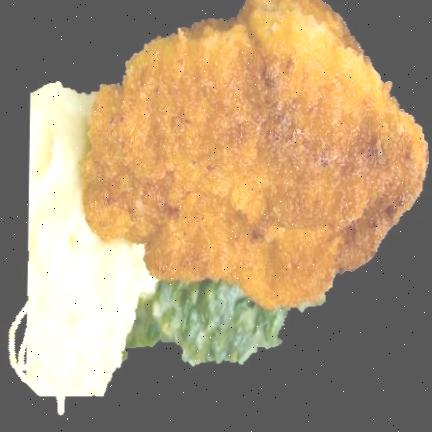chicken: (82, 0, 428, 309)
potato: (12, 83, 156, 414)
